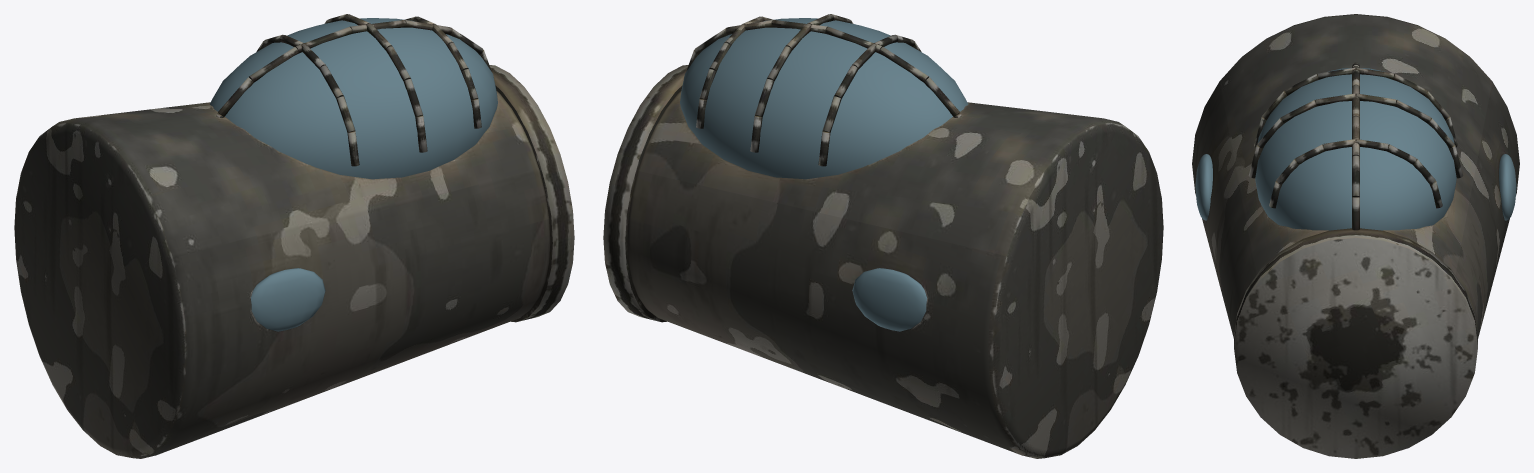
Rendered from turret_kit_tail_cabin_ash.glb.
3 renders of one model, left to right at view 1: azimuth 30°, elevation 25°; view 2: azimuth 150°, elevation 25°; view 3: azimuth 270°, elevation 25°, orthographic. The views are drawn at different scales.
Parts seen in each view (by area): view 1: turret_tail_cabin; view 2: turret_tail_cabin; view 3: turret_tail_cabin.
Part boxes in pixels (<box>): turret_tail_cabin: <box>14,14,574,458</box>; turret_tail_cabin: <box>603,14,1163,458</box>; turret_tail_cabin: <box>1192,14,1519,458</box>.
Size of the model in its own units: 1.14 by 0.9506 by 0.8335.
2 materials, 1 textured.
